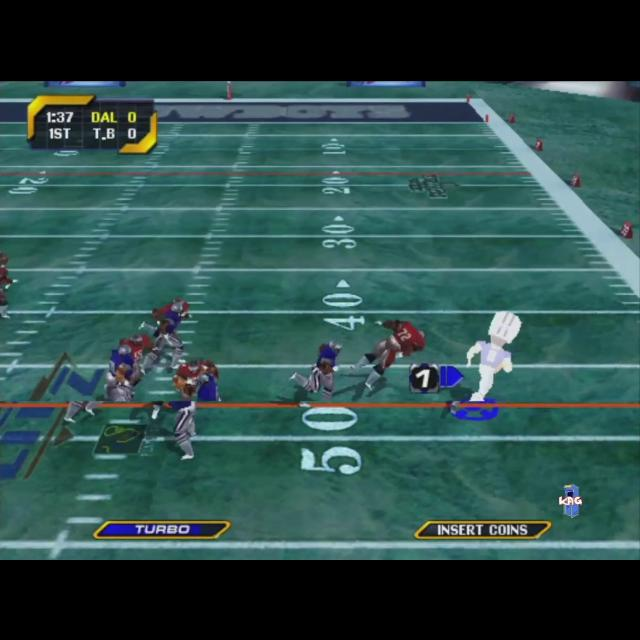player: (64, 334, 154, 422), (151, 358, 221, 459), (350, 318, 426, 389), (466, 311, 522, 401), (138, 298, 192, 372), (290, 340, 342, 400), (0, 252, 18, 318)
